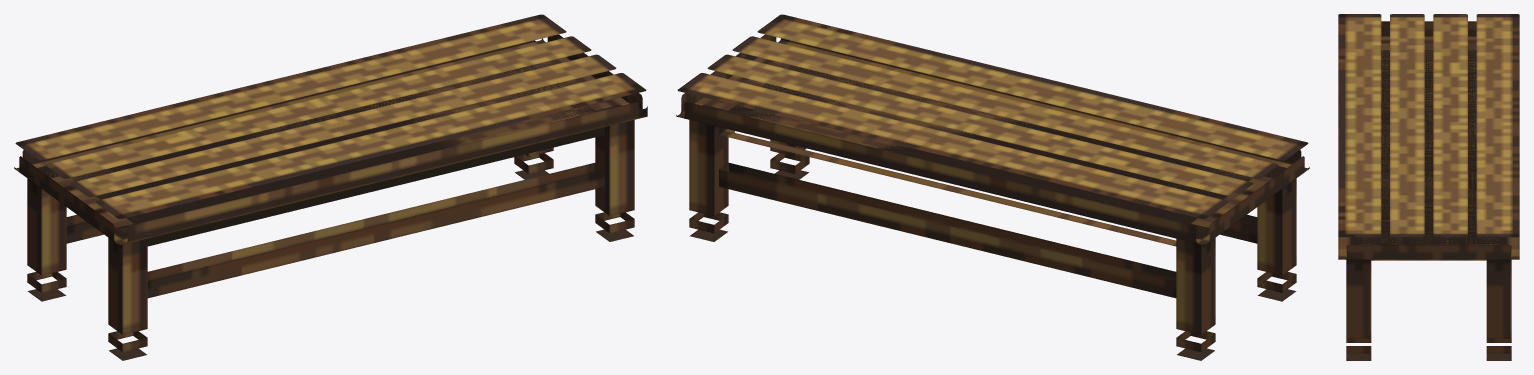
File: EnvObjMD_Table_A.FBX
The picture shows the model from 3 angles, left to right: view 1: azimuth 30°, elevation 25°; view 2: azimuth 150°, elevation 25°; view 3: azimuth 270°, elevation 25°; orthographic projection. The views are drawn at different scales.
Visible parts, largest first — view 1: EnvObjMD_Table_A; view 2: EnvObjMD_Table_A; view 3: EnvObjMD_Table_A.
Boxes of the visible parts, x1,y1,x2,y2 form: EnvObjMD_Table_A: (14, 14, 647, 360); EnvObjMD_Table_A: (676, 14, 1309, 360); EnvObjMD_Table_A: (1338, 14, 1519, 360).
Bounding box in the file's own units: 400 × 106 × 138.
